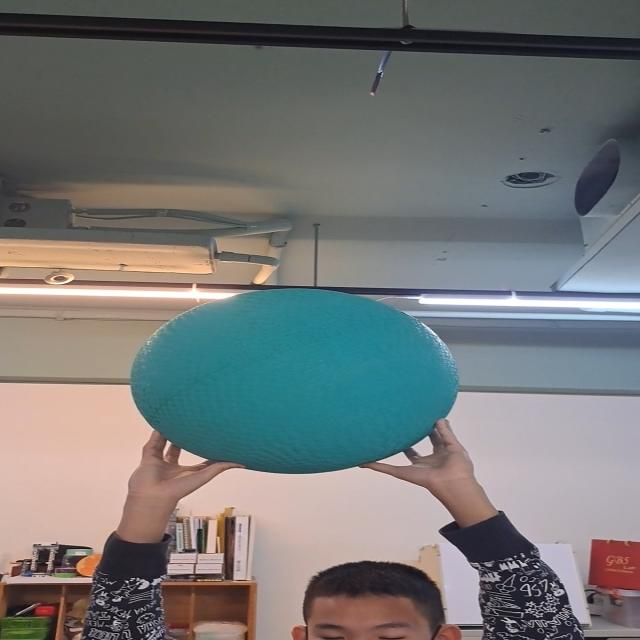ALGAE: (131, 288, 459, 473)
